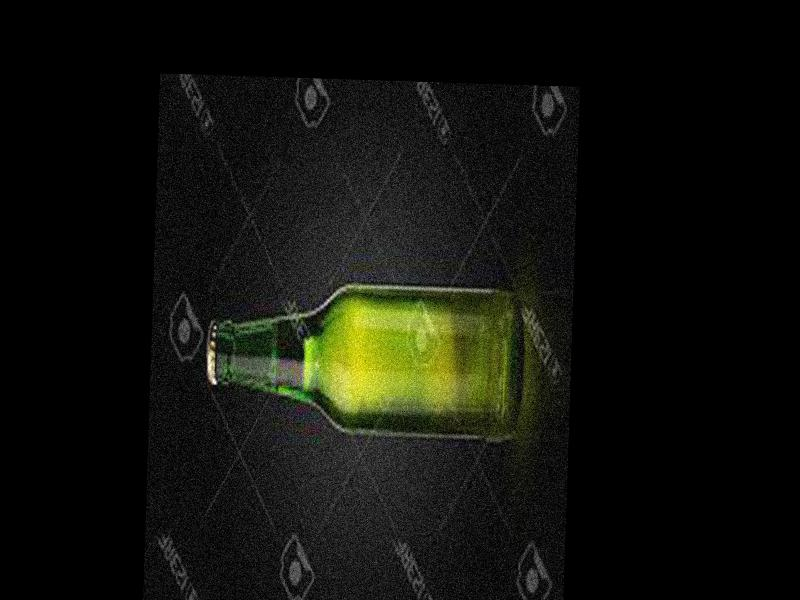Beer: (204, 276, 523, 436)
